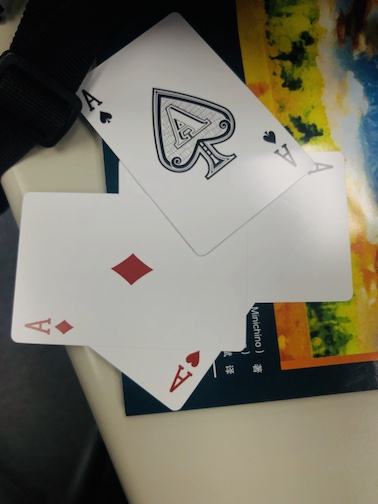ace: (60, 9, 309, 262), (7, 192, 247, 352), (88, 216, 256, 411), (220, 136, 369, 309)
